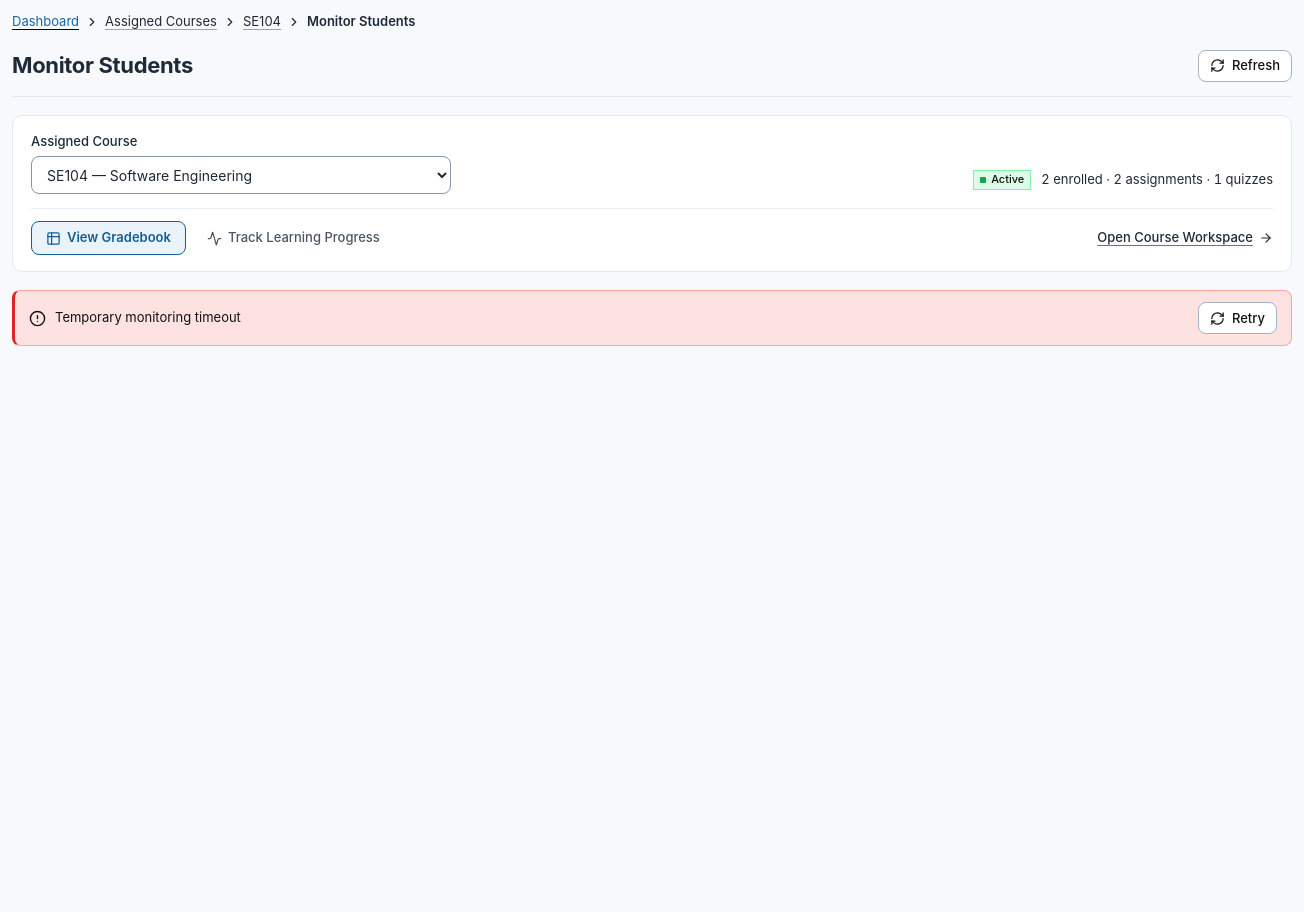
Test case: I06: Instructor Monitor Students › handles Exception 6.2 (Data Retrieval Failed) and recovers via Retry
The image size is (1304, 912).
Expected: the message shows "Temporary monitoring timeout", x1=55 y1=309 x2=241 y2=325
Click the button "Retry": (1238, 318) x1=1198 y1=302 x2=1277 y2=334
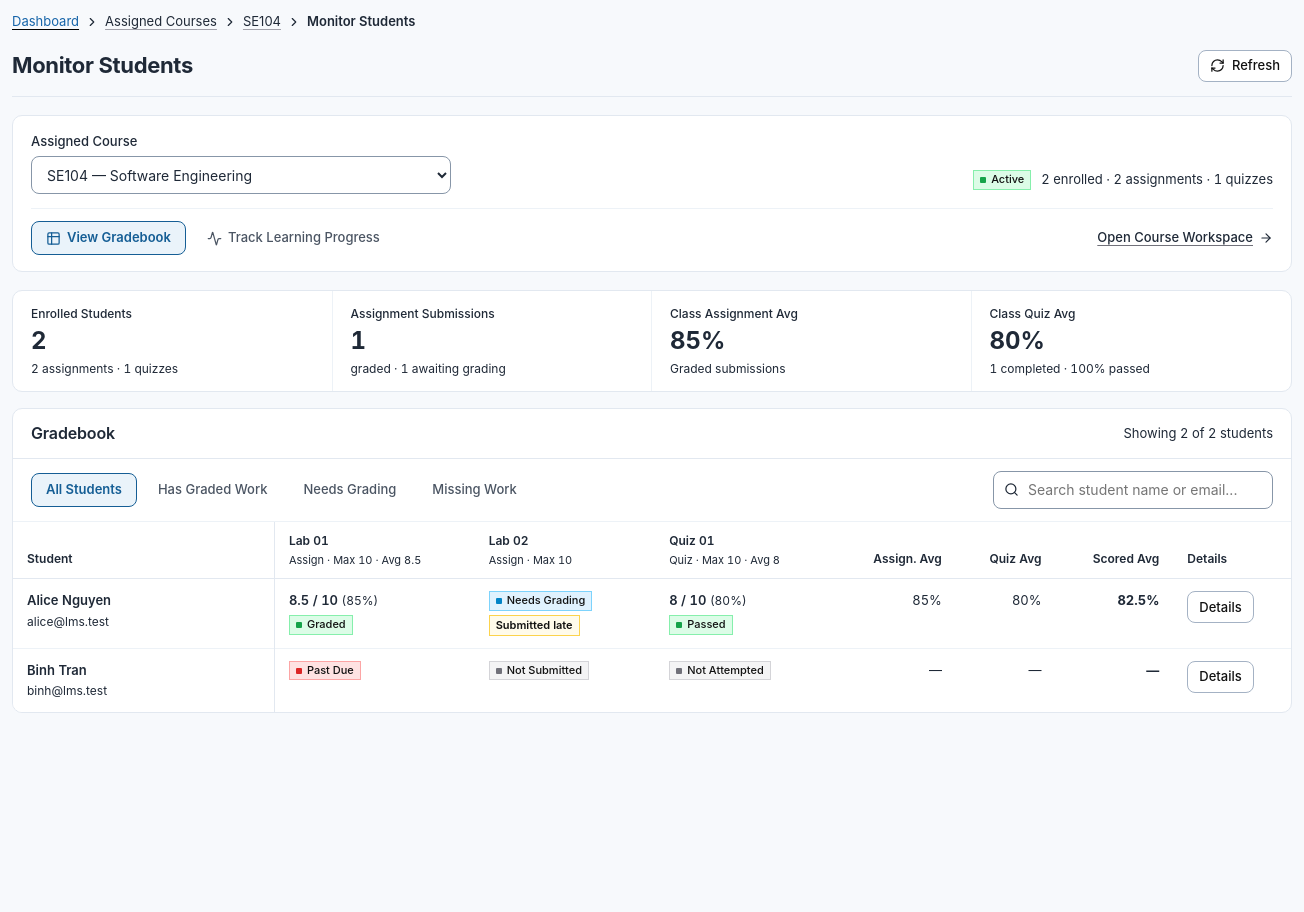
Expected: the table named "Course gradebook" is shown, x1=13 y1=522 x2=1291 y2=712
